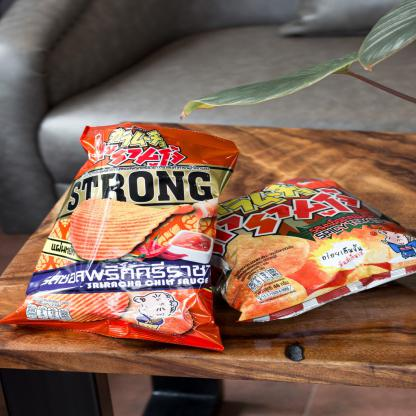potatochip: (12, 121, 252, 359), (183, 175, 415, 323)
